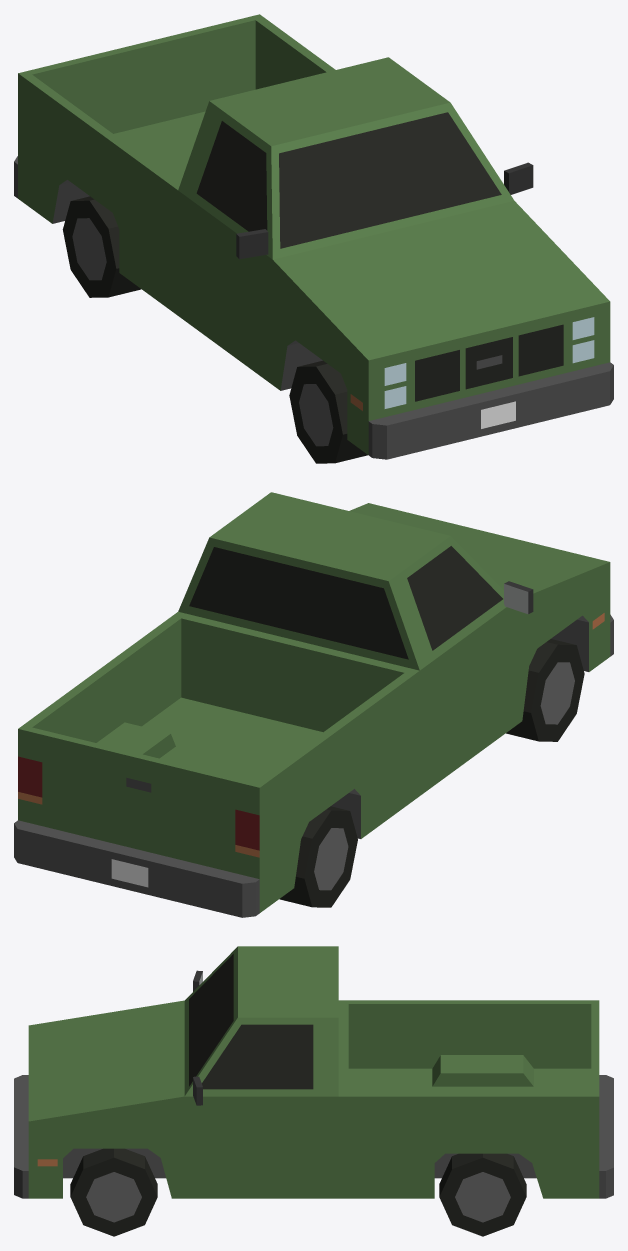
Rendered from Veh_Pickup_02_Green.obj.
The picture shows the model from 3 angles, top to bottom: view 1: azimuth 30°, elevation 25°; view 2: azimuth 150°, elevation 25°; view 3: azimuth 270°, elevation 25°; orthographic projection. The views are drawn at different scales.
Bounding box in the file's own units: 1.43 × 1.18 × 3.11.
